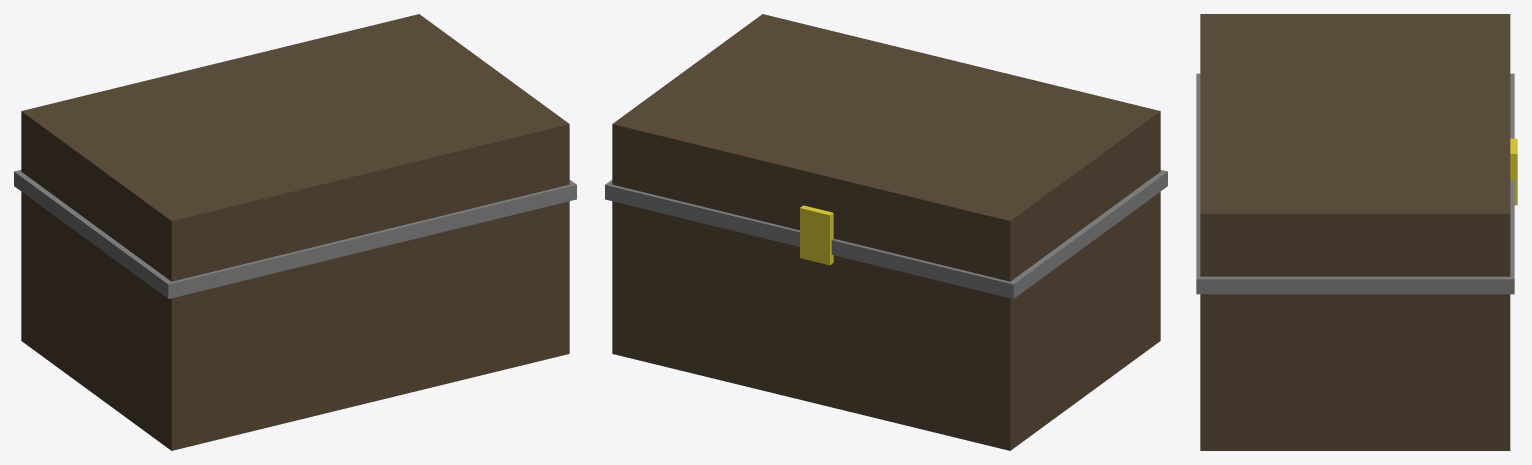
The model's file is WoodenChest.fbx.
3 views of the same model, side by side, from view 1: azimuth 30°, elevation 25°; view 2: azimuth 150°, elevation 25°; view 3: azimuth 270°, elevation 25° (orthographic). The views are drawn at different scales.
Visible parts, largest first — view 1: Cube.003; view 2: Cube.003; view 3: Cube.003.
Boxes of the visible parts, <box> form: Cube.003: <box>14,14,576,450</box>; Cube.003: <box>605,14,1167,450</box>; Cube.003: <box>1196,14,1517,450</box>.
Size of the model in its own units: 101 by 54.5 by 67.
